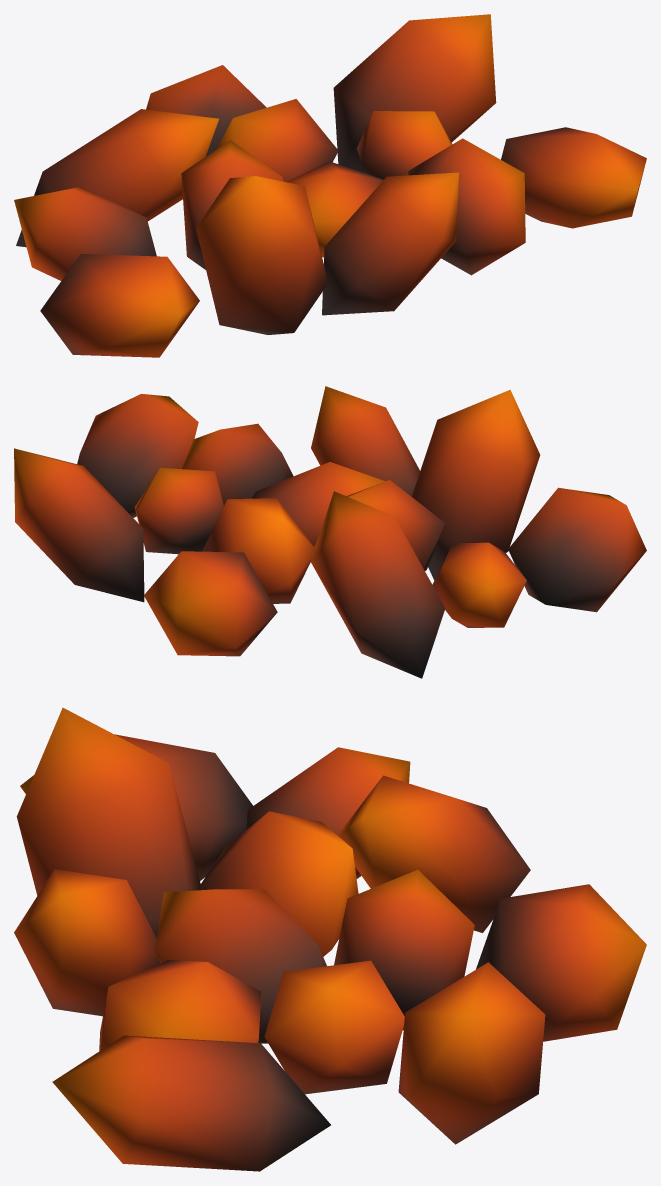
Rendered from Fireplace_coal_001.fbx.
The picture shows the model from 3 angles, top to bottom: view 1: azimuth 30°, elevation 25°; view 2: azimuth 150°, elevation 25°; view 3: azimuth 270°, elevation 25°; orthographic projection. The views are drawn at different scales.
Visible parts, largest first — view 1: Fireplace_coal_001; view 2: Fireplace_coal_001; view 3: Fireplace_coal_001.
Part boxes in pixels (box(x1,y1,x2,y2)): Fireplace_coal_001: box(14, 14, 646, 357); Fireplace_coal_001: box(14, 386, 646, 678); Fireplace_coal_001: box(14, 707, 646, 1171).
Bounding box in the file's own units: 0.8984 × 0.2861 × 0.6393.
